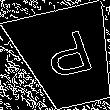P_S: (36, 29, 98, 87)
